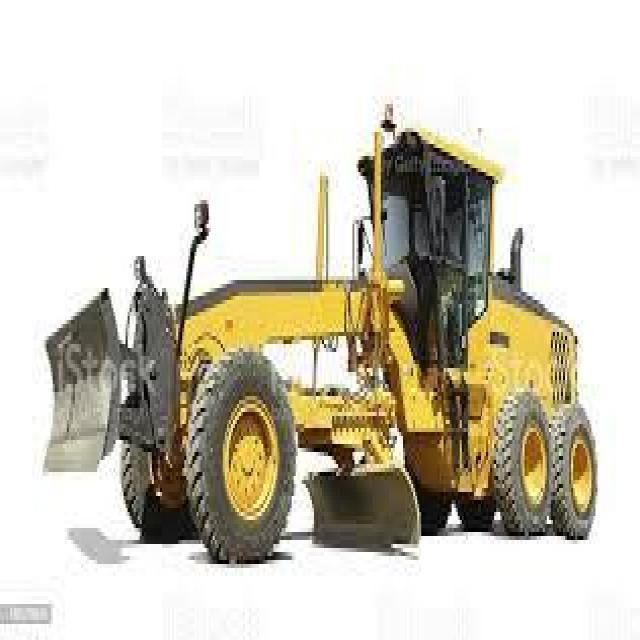Grader: (47, 92, 638, 572)
